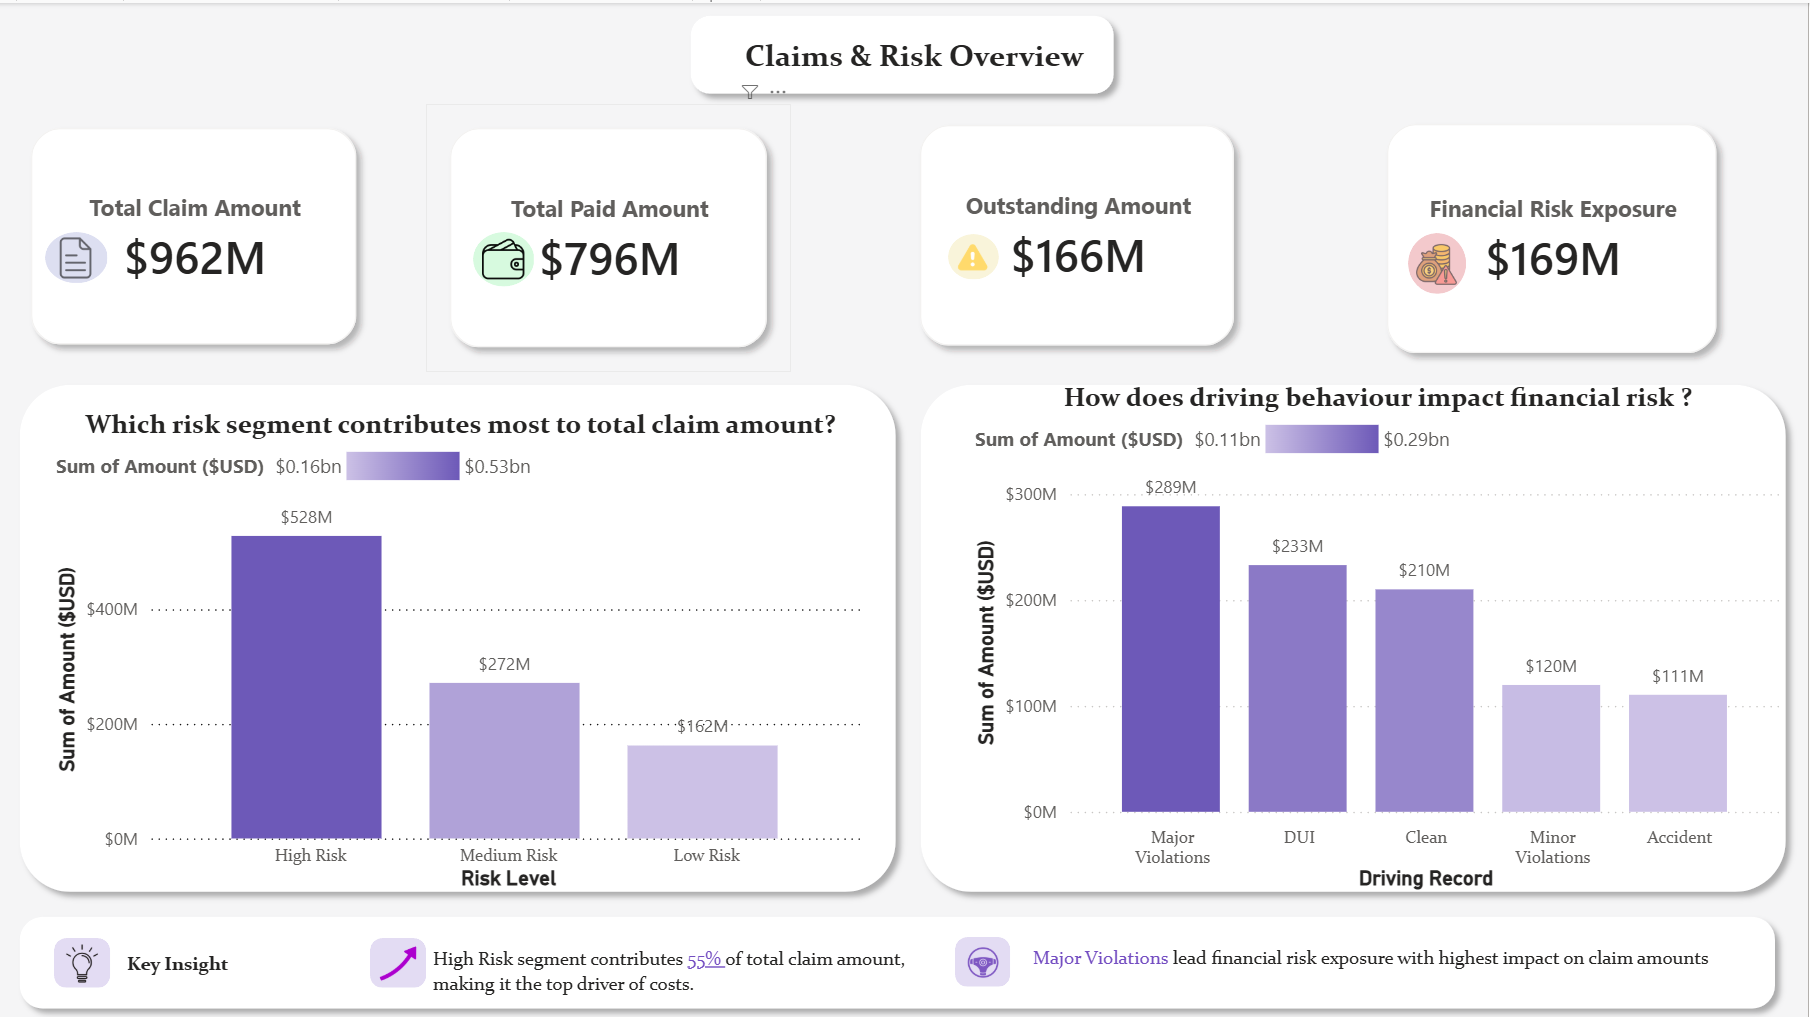

This screenshot's page, from the dashboard's own definition file:
{"tool":"powerbi","page":{"name":"Overview","canvas":[1280,720],"ordinal":0},"visuals":[{"type":"shape","title":"Title Shape","box":[480.8,0,317.1,73.1],"z":0,"group":"g8"},{"type":"cardVisual","fields":{"Data":["Sheet1.Risk Exposure"]},"box":[953.2,56.3,291.2,220],"z":0,"group":"g12"},{"type":"cardVisual","fields":{"Data":["Sheet1.Outstanding Amount"]},"box":[623.2,56.9,280.2,214.8],"z":0,"group":"g11"},{"type":"cardVisual","fields":{"Data":["Sum(Sheet1.claim_amount)"]},"box":[6.5,71.2,264.7,187],"z":0,"group":"g9"},{"type":"cardVisual","fields":{"Data":["Sum(Sheet1.payment_amount)"]},"box":[302.9,71.2,258.2,189.6],"z":0,"group":"g10"},{"type":"shape","title":"Page Shape","box":[33.3,161.2,44.4,36.3],"z":0,"group":"g3"},{"type":"shape","title":"Wallet Shape","box":[336.2,161.6,43.5,38.6],"z":0,"group":"g2"},{"type":"shape","title":"Risk Shape","box":[996.8,162.5,41.2,43.1],"z":0,"group":"g1"},{"type":"shape","title":"Caution Shape","box":[672.3,163,36,32.3],"z":0,"group":"g4"},{"type":"shape","box":[6.5,260.8,637.4,376.6],"z":0,"group":"g13"},{"type":"shape","box":[643.9,260.8,629.6,376.6],"z":0,"group":"g14"},{"type":"shape","title":"Insight Shape","box":[6.5,637.4,1259.3,82.8],"z":0},{"type":"shape","title":"Arrow Shape","box":[262.9,661.2,39.8,35.4],"z":0,"group":"g6"},{"type":"textbox","title":"Major Violation","box":[726.8,660.9,498.5,35.4],"z":500,"group":"g5"},{"type":"textbox","title":"Title","box":[523.1,20,259.6,53.1],"z":1000,"group":"g8"},{"type":"group","id":"g1","title":"Risk Icon","box":[996.8,146.1,41.4,76.3],"z":1000,"group":"g12"},{"type":"image","title":"Risk","box":[1002.8,146.1,28.6,76.6],"z":1000,"group":"g1"},{"type":"group","id":"g2","title":"Wallet Icon","box":[336.2,146.9,42.9,68],"z":1000,"group":"g10"},{"type":"image","title":"Wallet","box":[342.5,146.9,30.1,68.6],"z":1000,"group":"g2"},{"type":"group","id":"g3","title":"Page Icon","box":[33.3,147.4,44.7,64],"z":1000,"group":"g9"},{"type":"image","title":"Page","box":[39.7,147.4,30.8,64.5],"z":1000,"group":"g3"},{"type":"group","id":"g4","title":"Caution Icon","box":[672.3,150.7,36.9,56.9],"z":1000,"group":"g11"},{"type":"image","title":"Caution","box":[677.5,150.7,25,57.5],"z":1000,"group":"g4"},{"type":"columnChart","title":"How does driving behaviour impact financial risk ?","fields":{"Y":["Sum(Sheet1.claim_amount)"],"Category":["Sheet1.driving_record"]},"box":[686,267.2,580,365],"z":1000,"group":"g14"},{"type":"columnChart","title":"Which risk  segment contributes most  to total claim amount?","fields":{"Y":["Sum(Sheet1.claim_amount)"],"Category":["Sheet1.risk_level"]},"box":[36.2,286.4,582.2,345.7],"z":1000,"group":"g13"},{"type":"shape","title":"Wheel Shape","box":[676.7,660.6,39.1,35.4],"z":1000,"group":"g5"},{"type":"shape","title":"Bulb Shape","box":[39.8,661.4,39.8,35.4],"z":1000,"group":"g7"},{"type":"image","title":"Arrow","box":[269.1,664.4,27.2,28.5],"z":1000,"group":"g6"},{"type":"textbox","title":"Key Insight","box":[86.2,665,88.3,30.9],"z":1000},{"type":"textbox","title":"High Risk","box":[302.7,661.3,359.4,47.1],"z":1500,"group":"g6"},{"type":"group","id":"g5","title":"Wheel Cion","box":[676.7,660.6,548.6,35.7],"z":2000},{"type":"image","title":"Wheel","box":[682.8,663.8,26.8,28.5],"z":2000,"group":"g5"},{"type":"image","title":"LighBulb","box":[46,664.6,27.2,28.5],"z":2000,"group":"g7"},{"type":"group","id":"g6","title":"Arrow Icon","box":[262.9,661.2,399.2,47.3],"z":3000},{"type":"group","id":"g7","title":"Bulb Icon","box":[39.8,661.4,39.8,35.4],"z":4000},{"type":"group","id":"g8","title":"Title","box":[480.8,0,317.1,73.1],"z":5000},{"type":"group","id":"g9","title":"card 1","box":[6.5,71.2,264.7,187],"z":6000},{"type":"group","id":"g10","title":"Card 2","box":[302.9,71.2,258.2,189.6],"z":7000},{"type":"group","id":"g11","title":"Card 3","box":[623.2,56.9,280.2,214.8],"z":8000},{"type":"group","id":"g12","title":"Card 3","box":[953.2,56.3,291.2,220],"z":9000},{"type":"group","id":"g13","title":"Graph 1","box":[6.5,260.8,637.4,376.6],"z":10000},{"type":"group","id":"g14","title":"Graph 2","box":[643.9,260.8,629.6,376.6],"z":11000}]}

Visuals, with their boxes in screenshot pixels (x1, y1, x2, y2), scaled from the page's 1280x720 canvas onto the 1810x1017 screenshot:
"Title Shape" shape: [left=680, top=0, right=1128, bottom=103]
cardVisual - Sheet1.Risk Exposure: [left=1348, top=80, right=1760, bottom=390]
cardVisual - Sheet1.Outstanding Amount: [left=881, top=80, right=1277, bottom=384]
cardVisual - Sum(Sheet1.claim_amount): [left=9, top=101, right=383, bottom=365]
cardVisual - Sum(Sheet1.payment_amount): [left=428, top=101, right=793, bottom=368]
"Page Shape" shape: [left=47, top=228, right=110, bottom=279]
"Wallet Shape" shape: [left=475, top=228, right=537, bottom=283]
"Risk Shape" shape: [left=1410, top=230, right=1468, bottom=290]
"Caution Shape" shape: [left=951, top=230, right=1002, bottom=276]
shape: [left=9, top=368, right=911, bottom=900]
shape: [left=911, top=368, right=1801, bottom=900]
"Insight Shape" shape: [left=9, top=900, right=1790, bottom=1016]
"Arrow Shape" shape: [left=372, top=934, right=428, bottom=984]
"Major Violation" textbox: [left=1028, top=934, right=1733, bottom=984]
"Title" textbox: [left=740, top=28, right=1107, bottom=103]
"Risk Icon" group: [left=1410, top=206, right=1468, bottom=314]
"Risk" image: [left=1418, top=206, right=1458, bottom=315]
"Wallet Icon" group: [left=475, top=207, right=536, bottom=304]
"Wallet" image: [left=484, top=207, right=527, bottom=304]
"Page Icon" group: [left=47, top=208, right=110, bottom=299]
"Page" image: [left=56, top=208, right=100, bottom=299]
"Caution Icon" group: [left=951, top=213, right=1003, bottom=293]
"Caution" image: [left=958, top=213, right=993, bottom=294]
"How does driving behaviour impact financial risk ?" columnChart: [left=970, top=377, right=1790, bottom=893]
"Which risk  segment contributes most  to total claim amount?" columnChart: [left=51, top=405, right=874, bottom=893]
"Wheel Shape" shape: [left=957, top=933, right=1012, bottom=983]
"Bulb Shape" shape: [left=56, top=934, right=113, bottom=984]
"Arrow" image: [left=381, top=938, right=419, bottom=979]
"Key Insight" textbox: [left=122, top=939, right=247, bottom=983]
"High Risk" textbox: [left=428, top=934, right=936, bottom=1001]
"Wheel Cion" group: [left=957, top=933, right=1733, bottom=984]
"Wheel" image: [left=966, top=938, right=1003, bottom=978]
"LighBulb" image: [left=65, top=939, right=104, bottom=979]
"Arrow Icon" group: [left=372, top=934, right=936, bottom=1001]
"Bulb Icon" group: [left=56, top=934, right=113, bottom=984]
"Title" group: [left=680, top=0, right=1128, bottom=103]
"card 1" group: [left=9, top=101, right=383, bottom=365]
"Card 2" group: [left=428, top=101, right=793, bottom=368]
"Card 3" group: [left=881, top=80, right=1277, bottom=384]
"Card 3" group: [left=1348, top=80, right=1760, bottom=390]
"Graph 1" group: [left=9, top=368, right=911, bottom=900]
"Graph 2" group: [left=911, top=368, right=1801, bottom=900]
